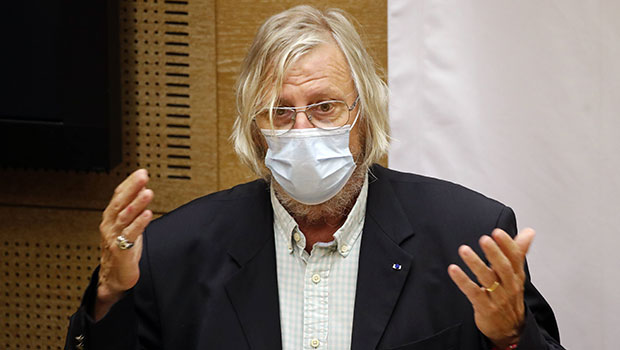with_mask: (254, 56, 365, 204)
